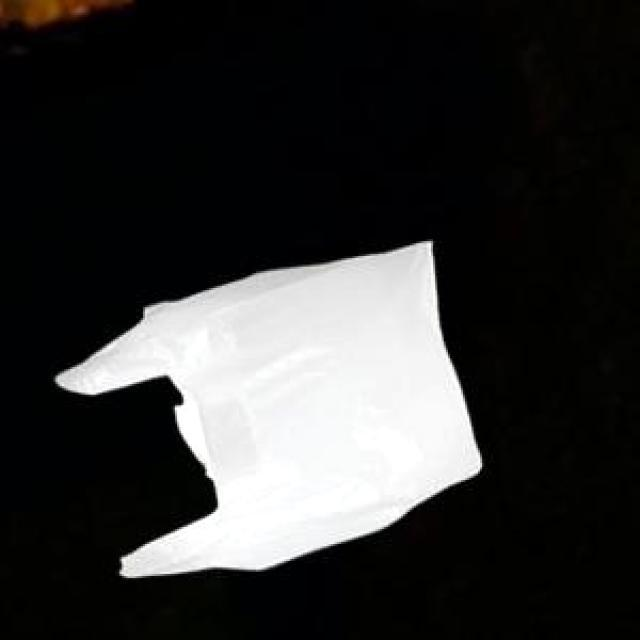Plastic_Bag: (52, 238, 477, 575)
